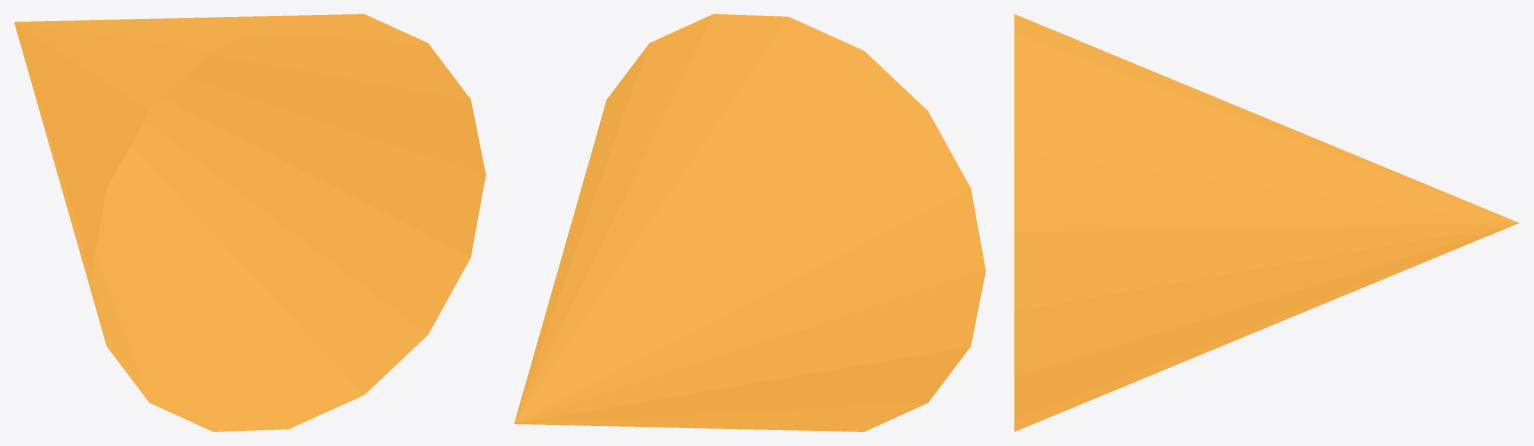
File: lamp_cone.glb
The picture shows the model from 3 angles, left to right: view 1: azimuth 30°, elevation 25°; view 2: azimuth 150°, elevation 25°; view 3: azimuth 270°, elevation 25°; orthographic projection. The views are drawn at different scales.
Visible parts, largest first — view 1: lamp_cone; view 2: lamp_cone; view 3: lamp_cone.
Boxes of the visible parts, x1,y1,x2,y2 form: lamp_cone: [14, 14, 485, 431]; lamp_cone: [514, 14, 985, 431]; lamp_cone: [1014, 14, 1518, 431].
Size of the model in its own units: 0.8284 by 0.8284 by 1.
